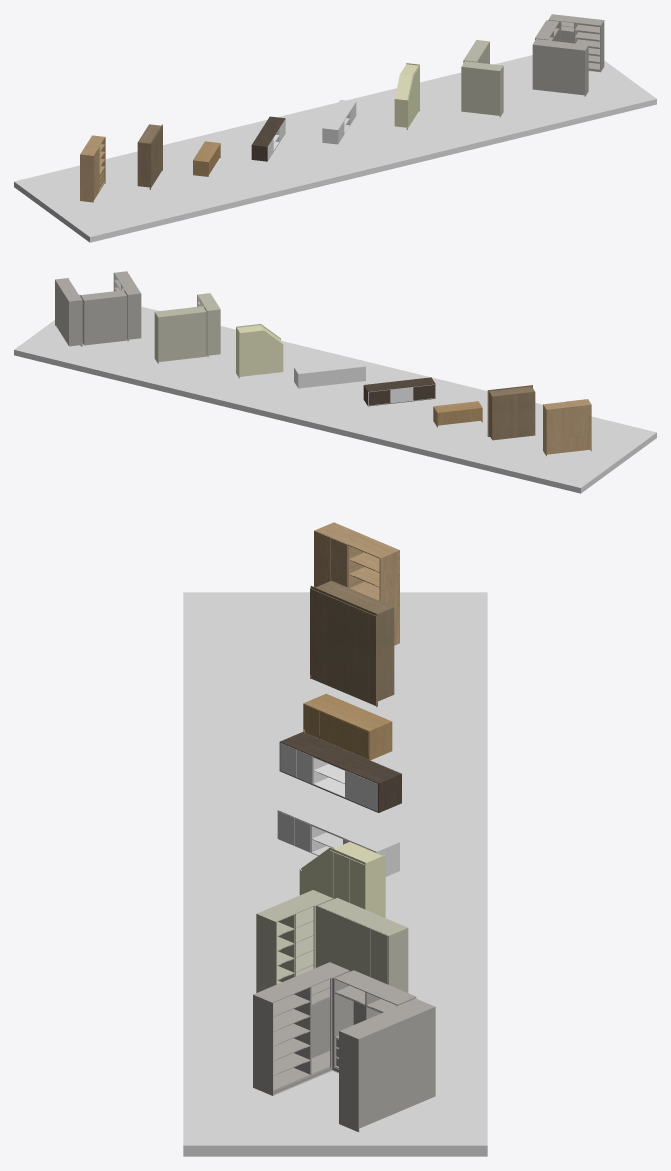
Rendered from closets2.glb.
3 renders of one model, top to bottom at view 1: azimuth 30°, elevation 25°; view 2: azimuth 150°, elevation 25°; view 3: azimuth 270°, elevation 25°, orthographic. The views are drawn at different scales.
Visible parts, largest first — view 1: Plane.003, uShape00, lshape, vrijstaand.001, inbouw.002, schuin.001, zwevend, zwevend.001, dressoir.001; view 2: Plane.003, uShape00, lshape, vrijstaand.001, inbouw.002, schuin.001, zwevend, zwevend.001, dressoir.001; view 3: Plane.003, uShape00, lshape, zwevend, vrijstaand.001, inbouw.002, zwevend.001, dressoir.001, schuin.001, door_plate.006, door_plate.009, door_plate.007 (+5 smaller).
Part boxes in pixels (box(x1,y1,x2,y2)): Plane.003: box(14, 55, 656, 242); uShape00: box(532, 14, 604, 96); lshape: box(461, 40, 503, 117); vrijstaand.001: box(80, 135, 105, 202); inbouw.002: box(137, 124, 162, 189); schuin.001: box(394, 63, 419, 129); zwevend: box(251, 116, 285, 161); zwevend.001: box(322, 99, 356, 144); dressoir.001: box(193, 141, 220, 176); Plane.003: box(14, 306, 656, 493); uShape00: box(55, 271, 141, 346); lshape: box(154, 293, 220, 363); vrijstaand.001: box(543, 399, 591, 456); inbouw.002: box(487, 385, 535, 440); schuin.001: box(236, 324, 283, 378); zwevend: box(363, 377, 435, 406); zwevend.001: box(294, 360, 365, 388); dressoir.001: box(433, 401, 482, 427); Plane.003: box(183, 592, 487, 1156); uShape00: box(253, 962, 435, 1132); lshape: box(256, 890, 408, 992); zwevend: box(279, 732, 401, 812); vrijstaand.001: box(314, 522, 399, 645); inbouw.002: box(310, 580, 394, 706); zwevend.001: box(277, 800, 399, 876); dressoir.001: box(303, 693, 392, 760); schuin.001: box(299, 842, 385, 917); door_plate.006: box(311, 589, 327, 681); door_plate.009: box(358, 609, 374, 701); door_plate.007: box(327, 595, 343, 688).
Size of the model in its own units: 4.21 by 0.3859 by 0.9775.
8 materials, 4 textured.
